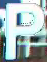Parking: (2, 3, 46, 59)
